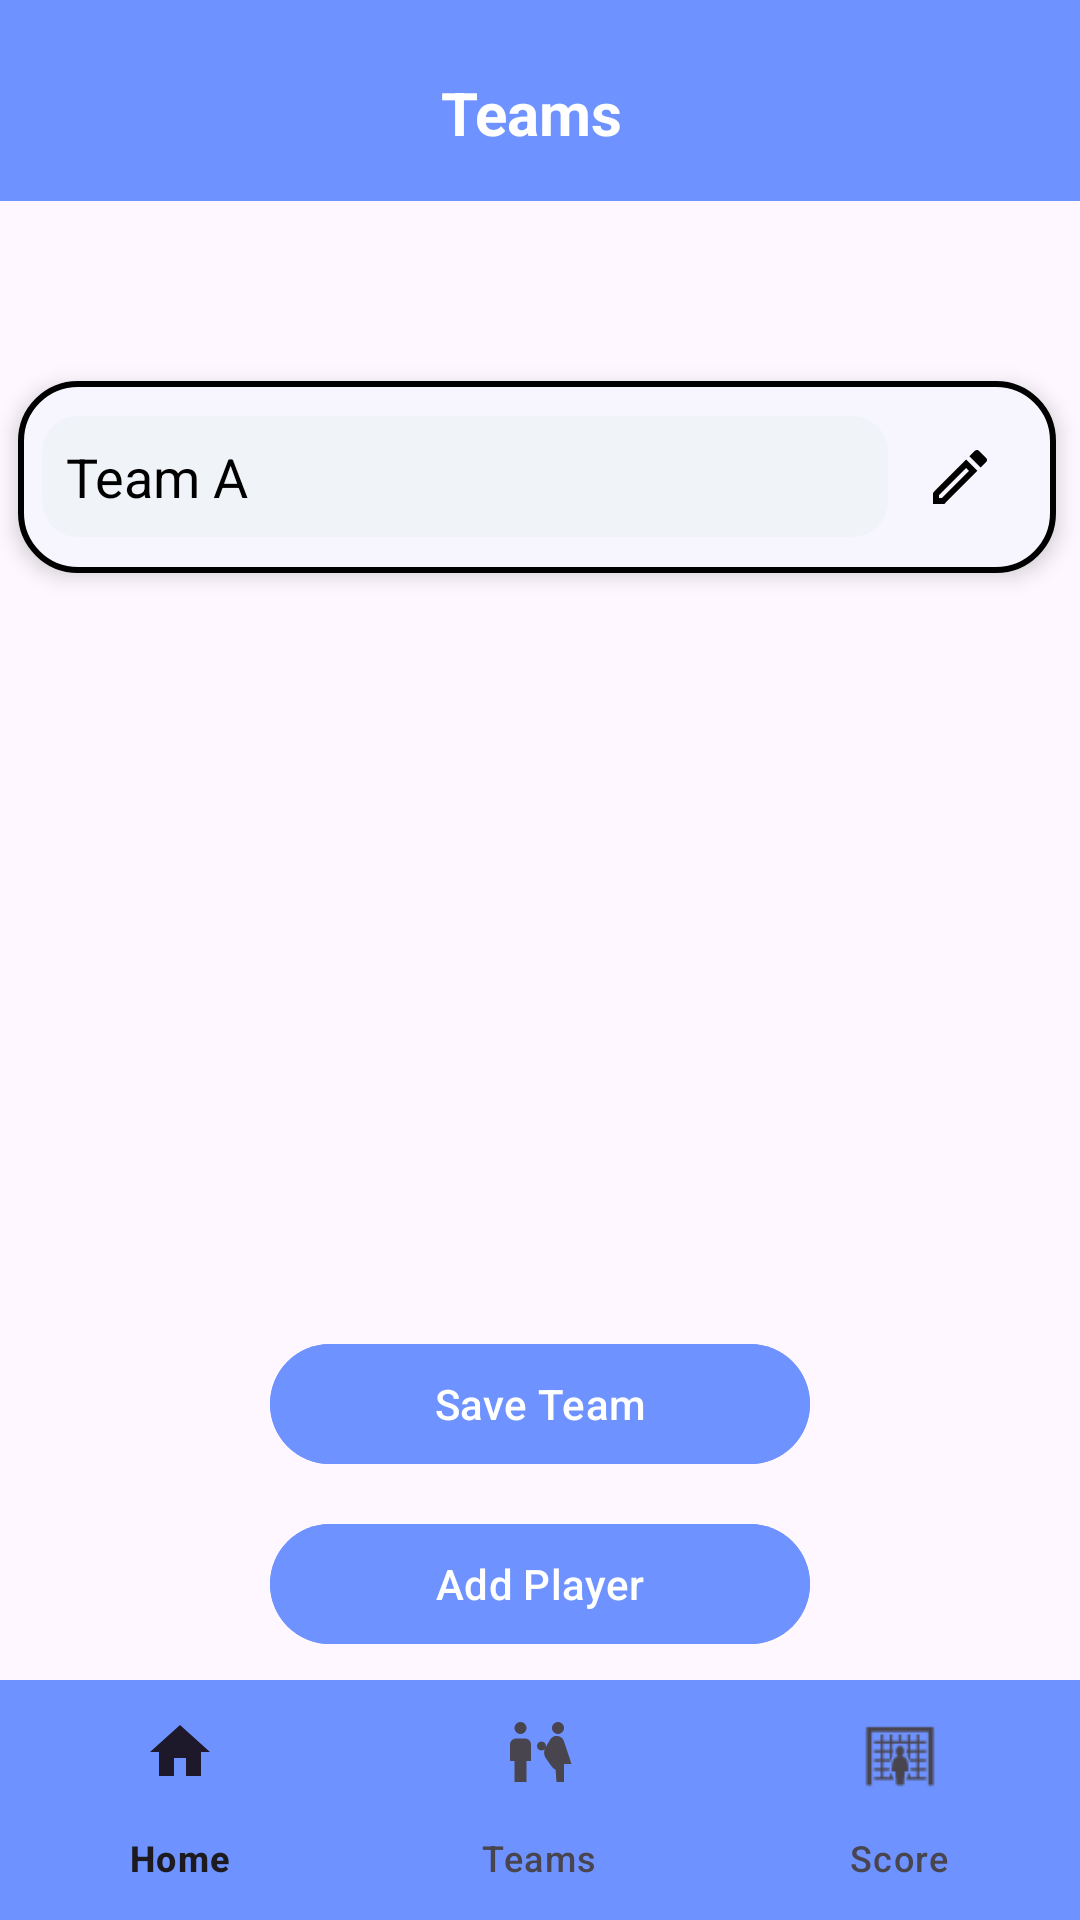

Screen size 1080x1920. Icon name, then its center in pixels as point (x, y):
Edit Team: point (960, 477)
